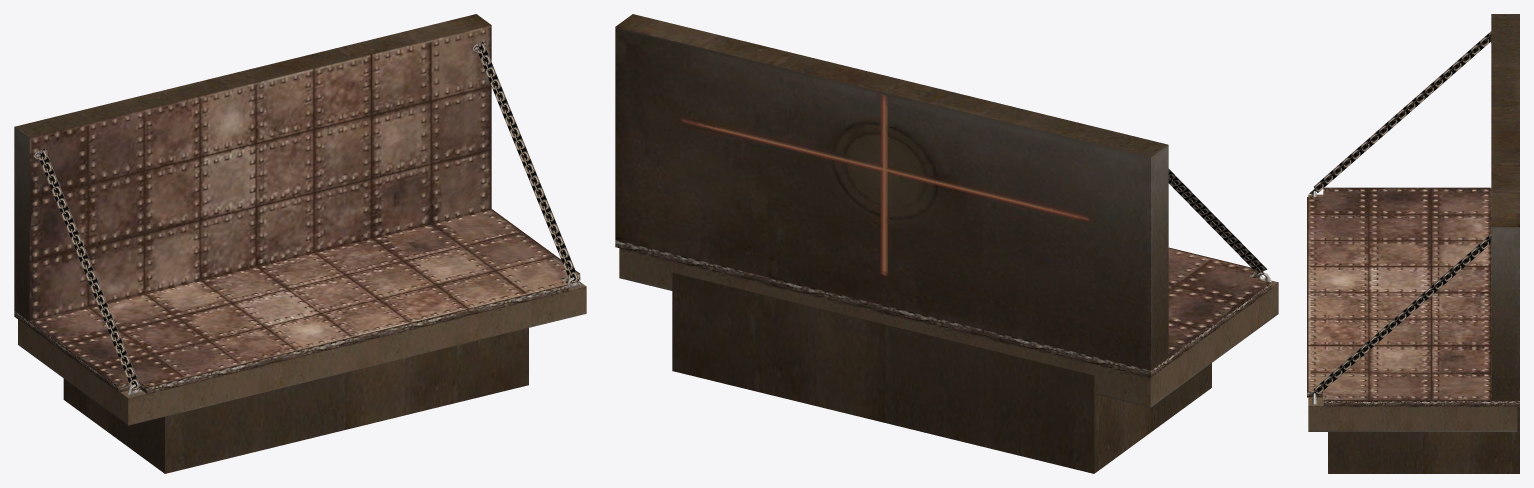
The model's file is seat_dance_area_single.fbx.
3 views of the same model, side by side, from view 1: azimuth 30°, elevation 25°; view 2: azimuth 150°, elevation 25°; view 3: azimuth 270°, elevation 25° (orthographic). The views are drawn at different scales.
Visible parts, largest first — view 1: mesh_0, mesh_2; view 2: mesh_0, mesh_2; view 3: mesh_0, mesh_2.
Part boxes in pixels (left/top/right/bottom): mesh_0: left=14, top=14, right=586, bottom=473; mesh_2: left=38, top=41, right=579, bottom=390; mesh_0: left=615, top=14, right=1278, bottom=473; mesh_2: left=1168, top=169, right=1267, bottom=276; mesh_0: left=1307, top=14, right=1519, bottom=473; mesh_2: left=1309, top=31, right=1491, bottom=396.
Bounding box in the file's own units: 241 × 142 × 102.
Materials: 3 (3 with a texture image).
